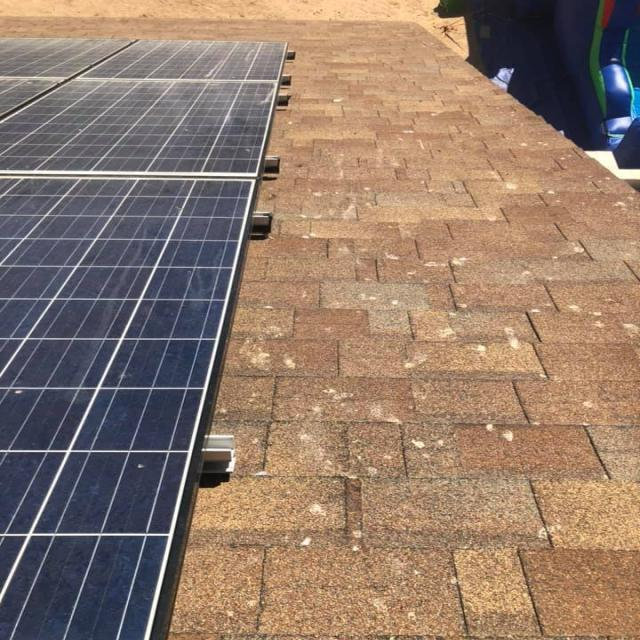dust-solar-panel: (0, 30, 294, 640)
